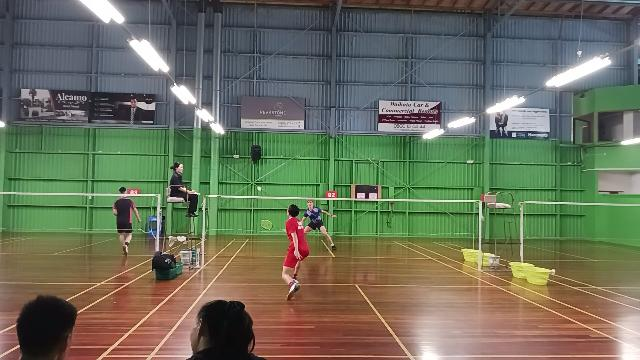Shuttlecock: (256, 184, 264, 192)
